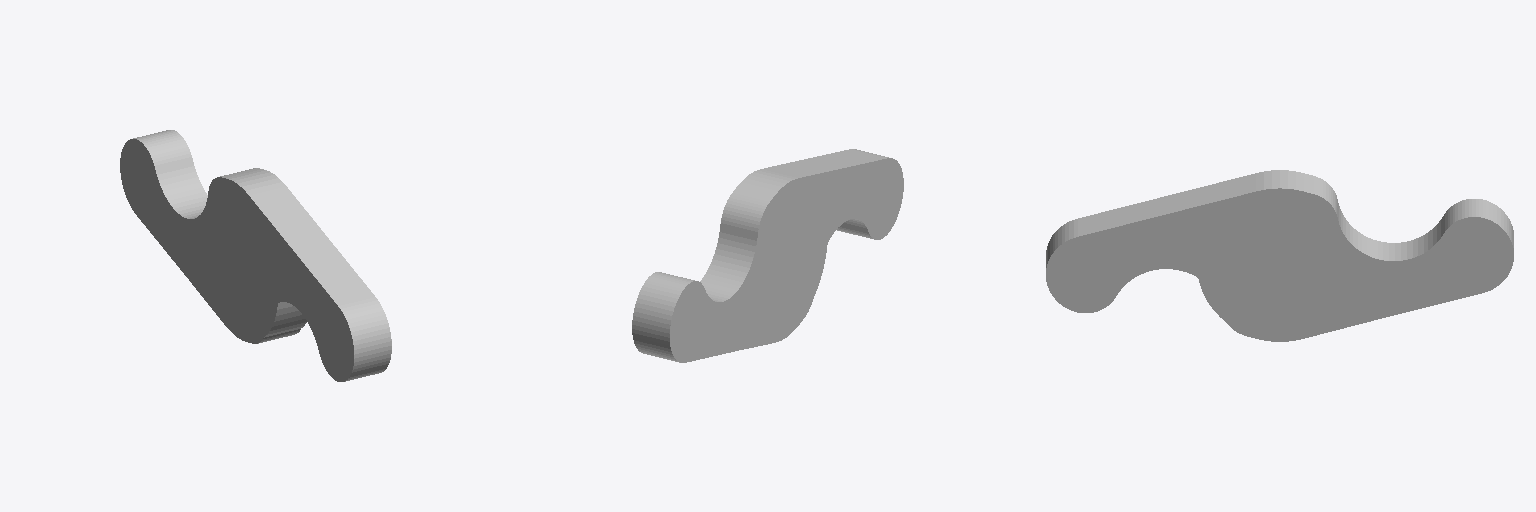
The model's file is vx300s_8_gripper_prop.obj.
3 views of the same model, side by side, from view 1: azimuth 30°, elevation 25°; view 2: azimuth 150°, elevation 25°; view 3: azimuth 270°, elevation 25° (orthographic).
Parts seen in each view (by area): view 1: vx300s_8_gripper_prop; view 2: vx300s_8_gripper_prop; view 3: vx300s_8_gripper_prop.
Boxes of the visible parts, x1=… form: vx300s_8_gripper_prop: x1=120, y1=130, x2=391, y2=381; vx300s_8_gripper_prop: x1=632, y1=149, x2=903, y2=362; vx300s_8_gripper_prop: x1=1046, y1=170, x2=1513, y2=341.
Size of the model in its own units: 0.005 by 0.0195 by 0.0539.